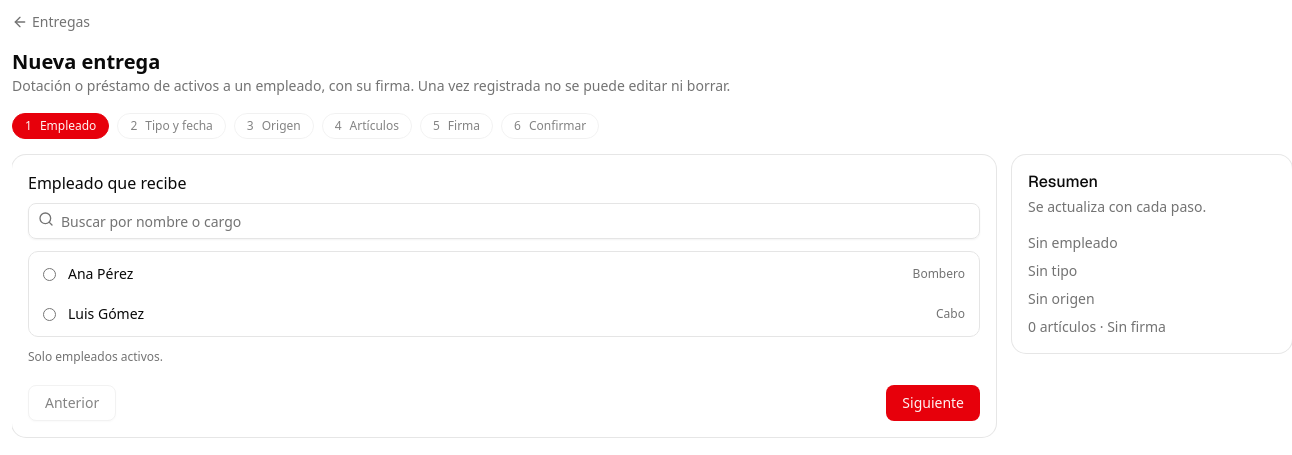
Test case: NewDeliveryScreen (/entregas/nueva, 007 US1, RN-023..RN-025) › filtra empleados por nombre sin tildes
expect the radio button labelled "Ana Pérez Bombero" is shown: met, box [43,268,56,280]
In the search field named "Buscar empleado": x=504, y=221 [28,203,980,239], type "perez"
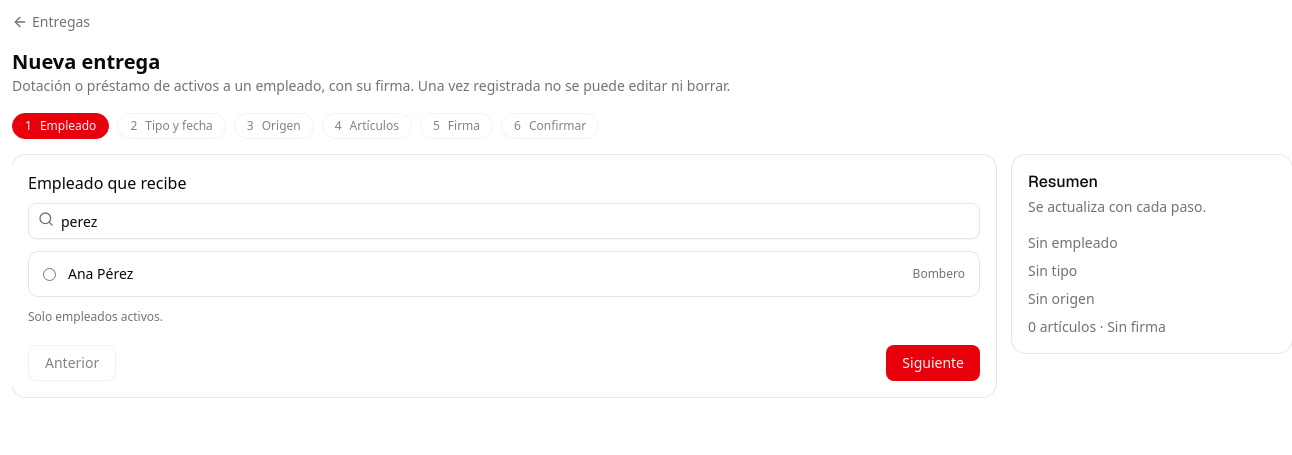
expect the radio button labelled "Ana Pérez Bombero" is shown: met, box [43,268,56,280]
expect the text "Luis Gómez" is gone: met
